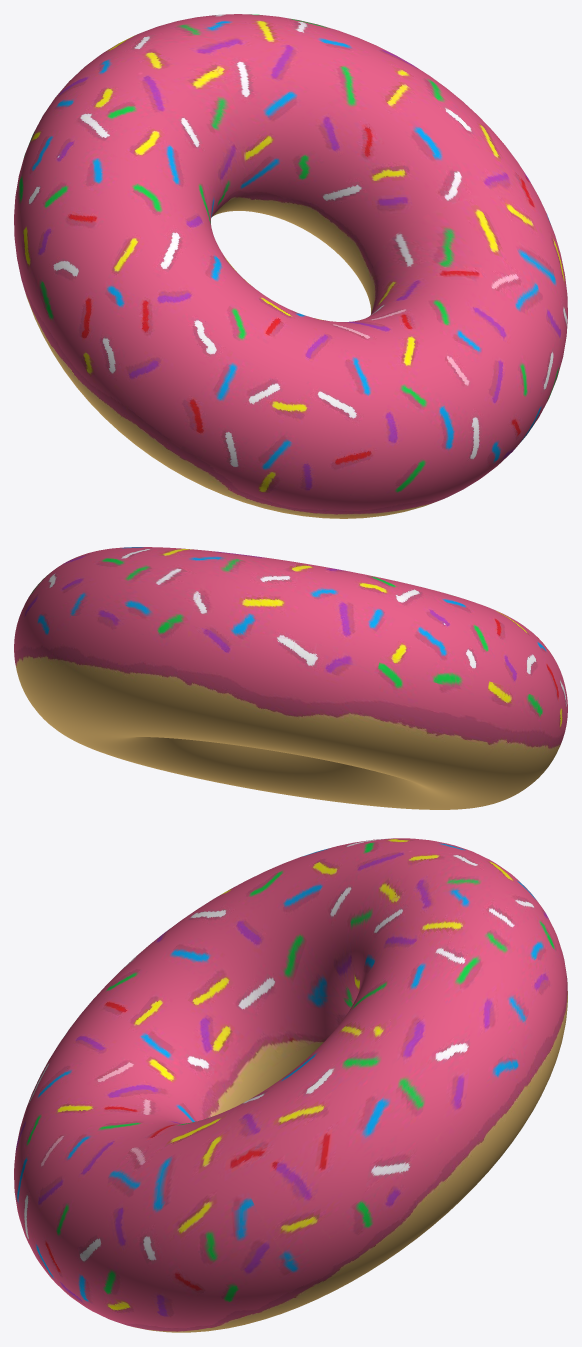
File: donut_treasure.fbx
3 views of the same model, one above another, from view 1: azimuth 30°, elevation 25°; view 2: azimuth 150°, elevation 25°; view 3: azimuth 270°, elevation 25° (orthographic). The views are drawn at different scales.
Parts seen in each view (by area): view 1: root; view 2: root; view 3: root.
Boxes of the visible parts, <box> form: root: <box>14,14,567,518</box>; root: <box>14,547,567,809</box>; root: <box>14,838,567,1332</box>.
Size of the model in its own units: 0.3523 by 0.2466 by 0.3186.
1 material, 1 textured.
